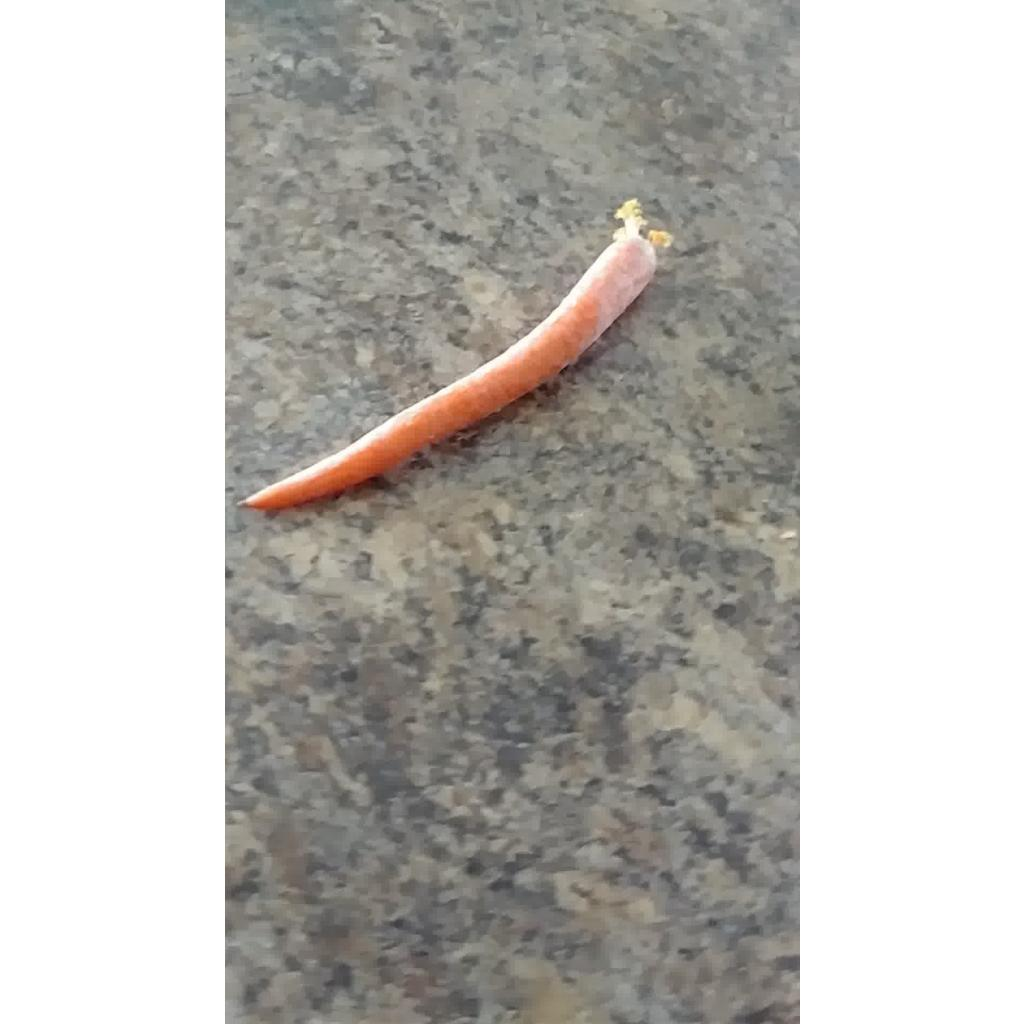carrot: (240, 200, 672, 510)
